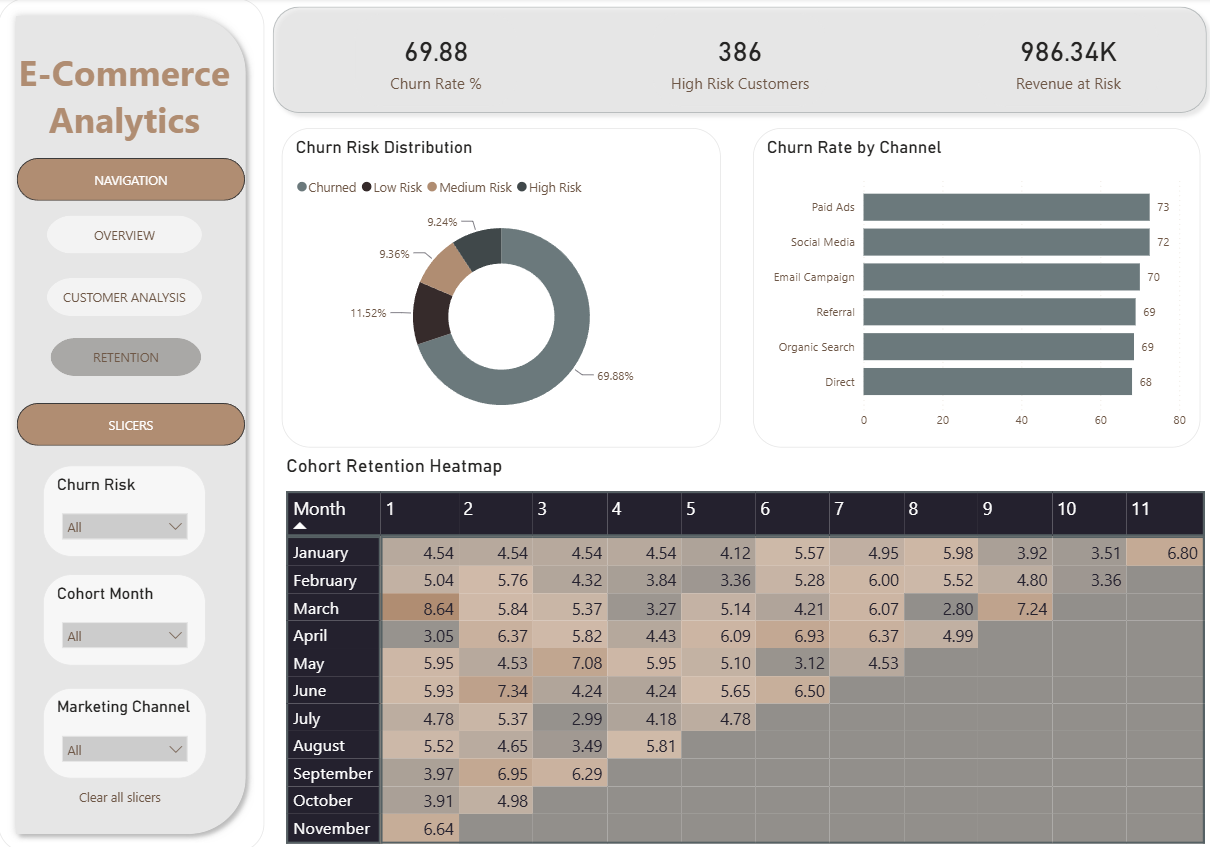

Layout of this report page (visuals, bound fields, positions):
{"tool":"powerbi","page":{"name":"Retention","canvas":[1280,900],"ordinal":2},"visuals":[{"type":"shape","box":[0,0,280,898.6],"z":0},{"type":"textbox","box":[12.8,47.7,239.5,122.1],"z":1000},{"type":"actionButton","box":[51.4,294.3,163.3,40],"z":2000},{"type":"actionButton","box":[55.7,357.1,158.6,40],"z":3000},{"type":"actionButton","box":[76.7,820,98.8,39.5],"z":7000},{"type":"actionButton","box":[51.4,228.6,163.3,40],"z":8000},{"type":"shape","box":[280,0,1000,130],"z":9000},{"type":"shape","box":[20,168.6,240,45],"z":10000},{"type":"shape","box":[20,425.7,240,45],"z":11000},{"type":"card","fields":{"Values":["churn_by_channel.Churn Rate %"]},"box":[374.3,15.7,171.4,98.6],"z":12000},{"type":"card","fields":{"Values":["churn_by_channel.High Risk Customers"]},"box":[688.6,15.7,182.9,98.6],"z":13000},{"type":"card","fields":{"Values":["churn_by_channel.Revenue at Risk"]},"box":[1030,15.7,190,98.6],"z":14000},{"type":"barChart","title":"Churn Rate by Channel","fields":{"Category":["churn_by_channel.marketing_channel"],"Y":["churn_by_channel.Churn Rate %"]},"box":[794.3,137.1,470,335.7],"z":15000},{"type":"pivotTable","title":"Cohort Retention Heatmap","fields":{"Rows":["cohort_retention_matrix.cohort_month.Variation.Date Hierarchy.Year","cohort_retention_matrix.cohort_month.Variation.Date Hierarchy.Quarter","cohort_retention_matrix.cohort_month.Variation.Date Hierarchy.Month","cohort_retention_matrix.cohort_month.Variation.Date Hierarchy.Day"],"Values":["Avg(cohort_retention_matrix.retention_%)"],"Columns":["cohort_retention_matrix.month_index"]},"box":[298.6,481.4,981.4,417.1],"z":16000},{"type":"donutChart","title":"Churn Risk Distribution","fields":{"Category":["churn_risk_summary.churn_risk"],"Y":["Sum(churn_risk_summary.customer_count)"]},"box":[298.6,137.1,461.4,335.7],"z":17000},{"type":"slicer","title":"Churn Risk","fields":{"Values":["churn_risk_summary.churn_risk"]},"box":[47.1,491.4,171.4,95.7],"z":18000},{"type":"slicer","title":"Cohort Month","fields":{"Values":["cohort_retention_matrix.cohort_month"]},"box":[47.1,605.7,171.4,95.7],"z":19000},{"type":"slicer","title":"Marketing Channel","fields":{"Values":["clv_by_channel.marketing_channel"]},"box":[46.7,725,171.7,95],"z":20000}]}

Visuals, with their boxes in screenshot pixels (x1, y1, x2, y2), scaled from the page's 1280x900 canvas onto the 1210x847 screenshot:
shape: <box>0,0,265,846</box>
textbox: <box>12,45,239,160</box>
actionButton: <box>49,277,203,315</box>
actionButton: <box>53,336,203,374</box>
actionButton: <box>73,772,166,809</box>
actionButton: <box>49,215,203,253</box>
shape: <box>265,0,1209,122</box>
shape: <box>19,159,246,201</box>
shape: <box>19,401,246,443</box>
card - churn_by_channel.Churn Rate %: <box>354,15,516,108</box>
card - churn_by_channel.High Risk Customers: <box>651,15,824,108</box>
card - churn_by_channel.Revenue at Risk: <box>974,15,1153,108</box>
"Churn Rate by Channel" barChart: <box>751,129,1195,445</box>
"Cohort Retention Heatmap" pivotTable: <box>282,453,1209,846</box>
"Churn Risk Distribution" donutChart: <box>282,129,718,445</box>
"Churn Risk" slicer: <box>45,462,207,553</box>
"Cohort Month" slicer: <box>45,570,207,660</box>
"Marketing Channel" slicer: <box>44,682,206,772</box>
